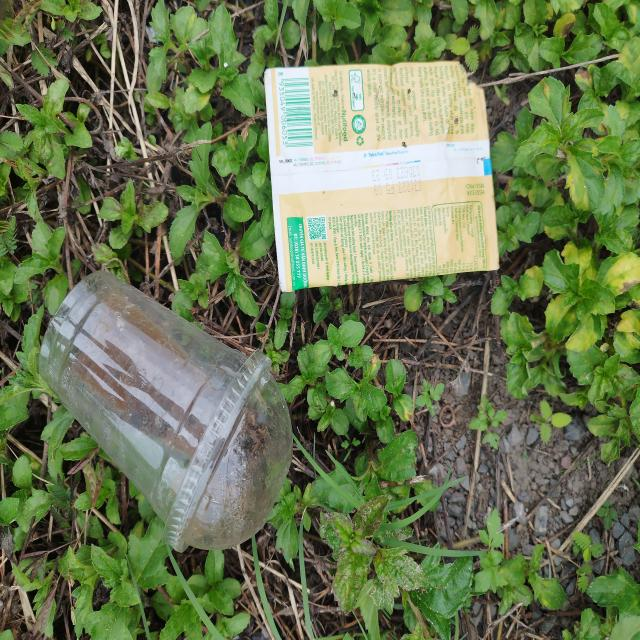packet: (264, 60, 500, 293)
plastic glass: (38, 270, 293, 554)
